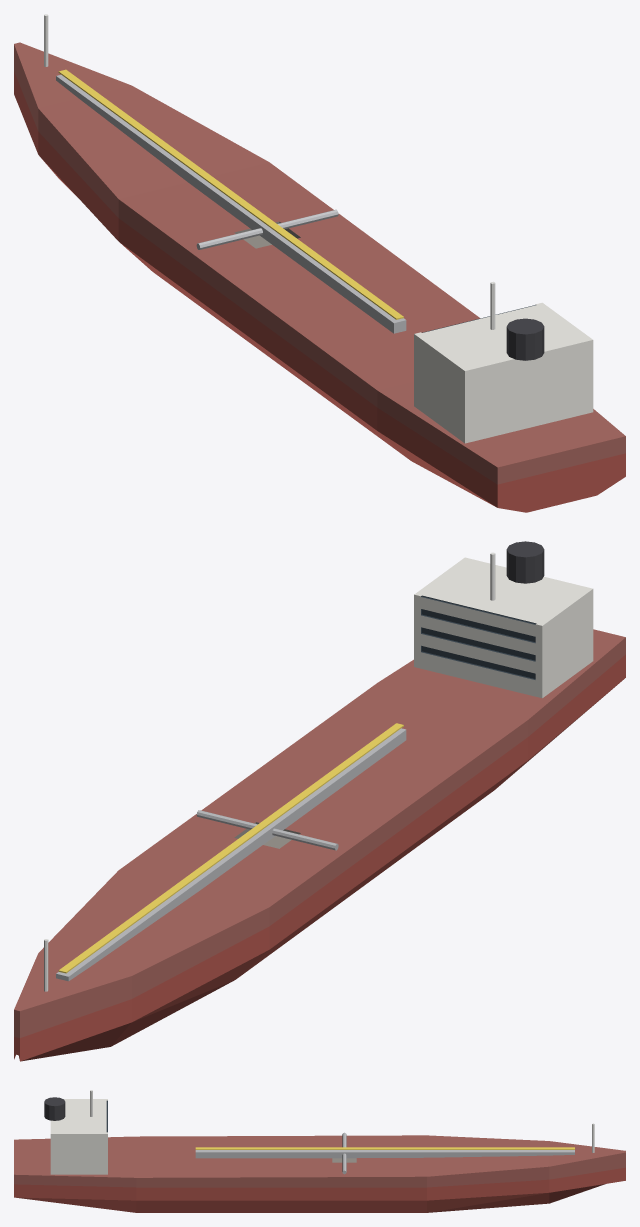
File: tanker.glb
3 views of the same model, one above another, from view 1: azimuth 30°, elevation 25°; view 2: azimuth 150°, elevation 25°; view 3: azimuth 270°, elevation 25° (orthographic). The views are drawn at different scales.
Visible parts, largest first — view 1: tanker; view 2: tanker; view 3: tanker.
Boxes of the visible parts, box(x1,y1,x2,y2) form: tanker: box(14, 14, 625, 512); tanker: box(14, 541, 625, 1061); tanker: box(14, 1090, 625, 1212).
Size of the model in its own units: 24 by 30 by 150.
